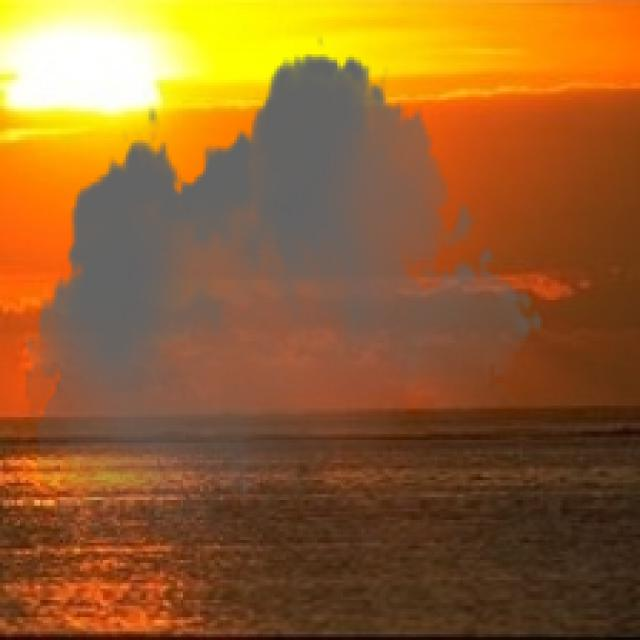smoke: (26, 34, 546, 580)
